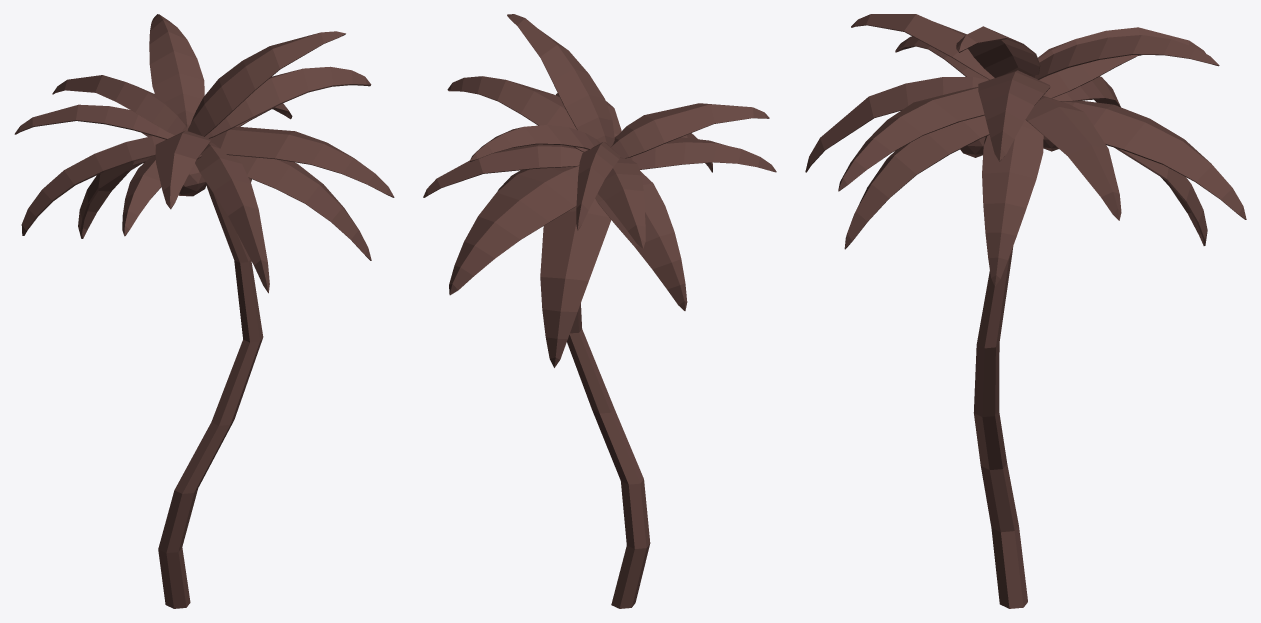
The model's file is PalmTree_4.glb.
The picture shows the model from 3 angles, left to right: view 1: azimuth 30°, elevation 25°; view 2: azimuth 150°, elevation 25°; view 3: azimuth 270°, elevation 25°; orthographic projection. The views are drawn at different scales.
Parts seen in each view (by area): view 1: PalmTree_4_Cylinder.041; view 2: PalmTree_4_Cylinder.041; view 3: PalmTree_4_Cylinder.041.
Part boxes in pixels (left/top/right/bottom): PalmTree_4_Cylinder.041: left=14, top=14, right=394, bottom=608; PalmTree_4_Cylinder.041: left=423, top=14, right=776, bottom=608; PalmTree_4_Cylinder.041: left=805, top=14, right=1246, bottom=608.
Bounding box in the file's own units: 1.81 × 3.25 × 2.05.
